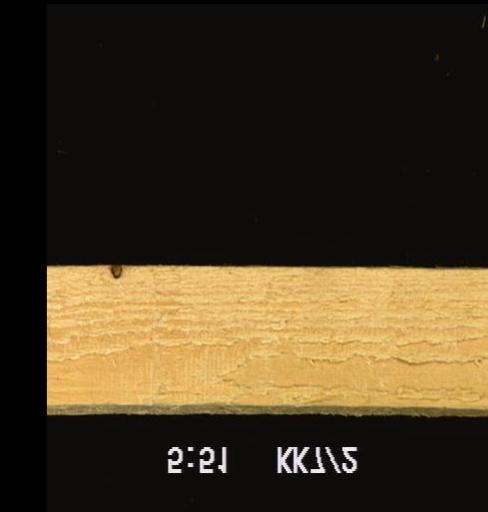edge_knot: (105, 260, 123, 280)
